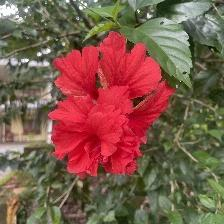hibiscus: (49, 32, 175, 182)
